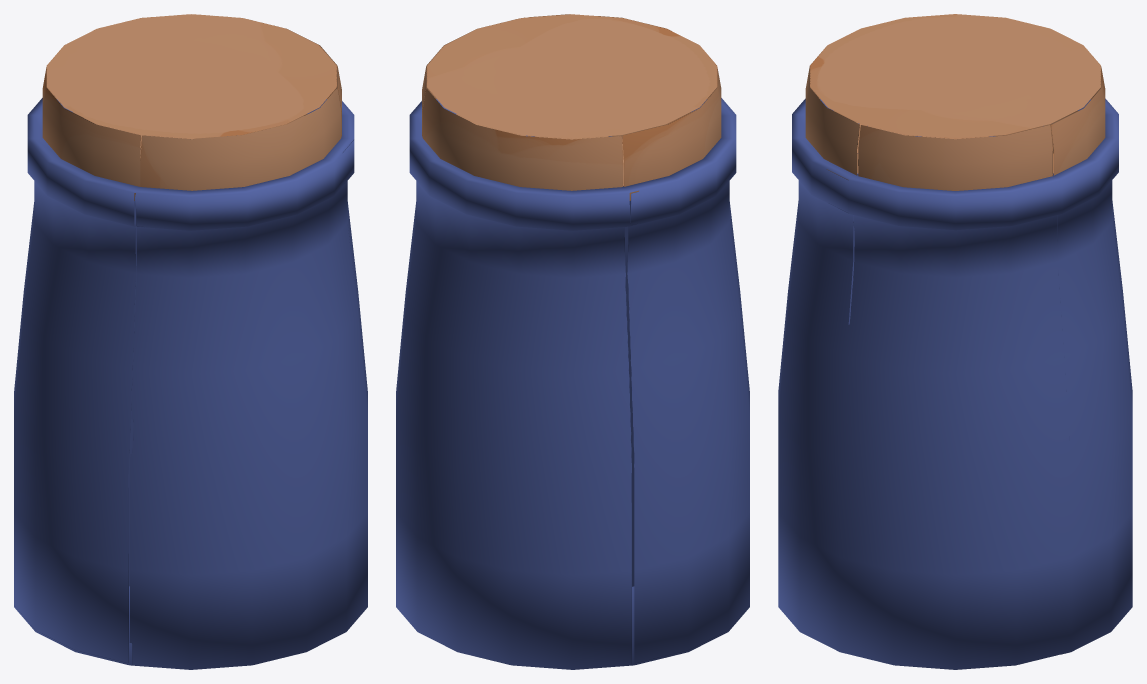
File: HpRecovery.fbx
The picture shows the model from 3 angles, left to right: view 1: azimuth 30°, elevation 25°; view 2: azimuth 150°, elevation 25°; view 3: azimuth 270°, elevation 25°; orthographic projection.
Visible parts, largest first — view 1: Cylinder001, Cylinder002; view 2: Cylinder001, Cylinder002; view 3: Cylinder001, Cylinder002.
Part boxes in pixels (<box>): Cylinder001: <box>14,98,367,669</box>; Cylinder002: <box>42,14,341,200</box>; Cylinder001: <box>396,98,749,669</box>; Cylinder002: <box>422,14,721,200</box>; Cylinder001: <box>778,98,1132,669</box>; Cylinder002: <box>805,14,1105,190</box>.
Size of the model in its own units: 11.26 by 11.09 by 17.89.
Materials: 2 (2 with a texture image).
